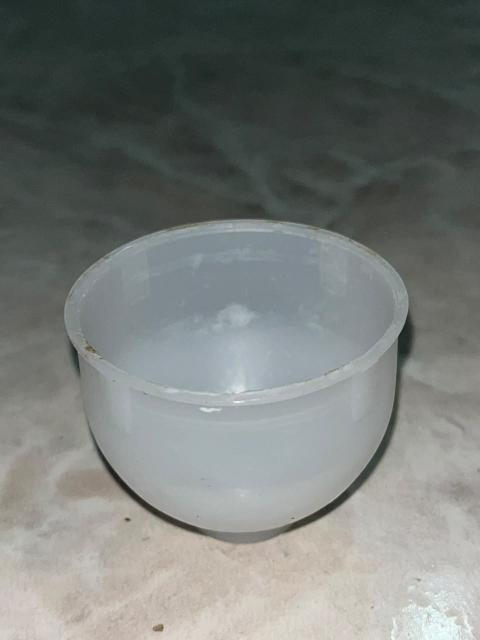HDPE: (57, 198, 423, 571)
